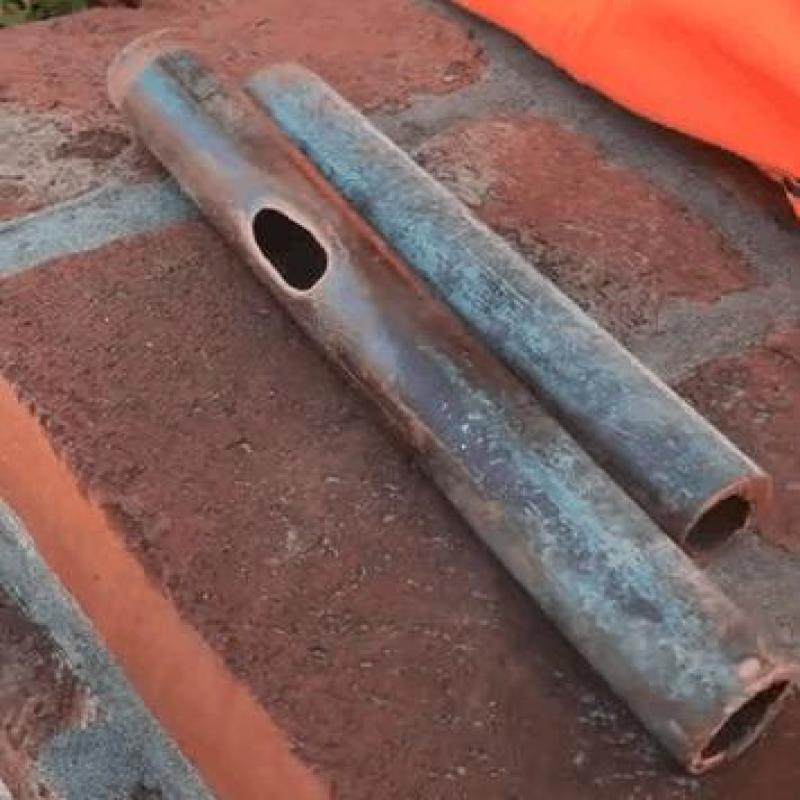Fracture: (238, 201, 338, 296)
